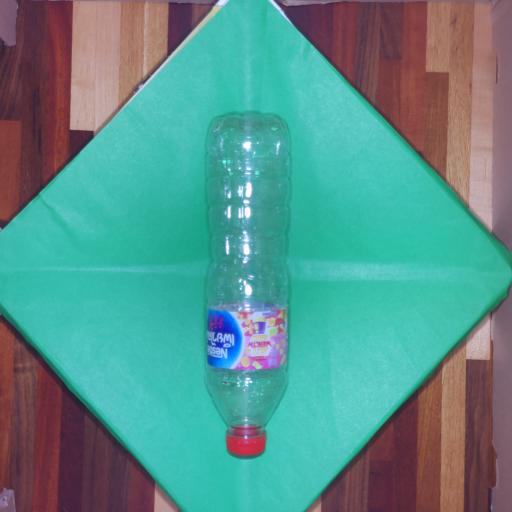bottle: (196, 100, 300, 466)
